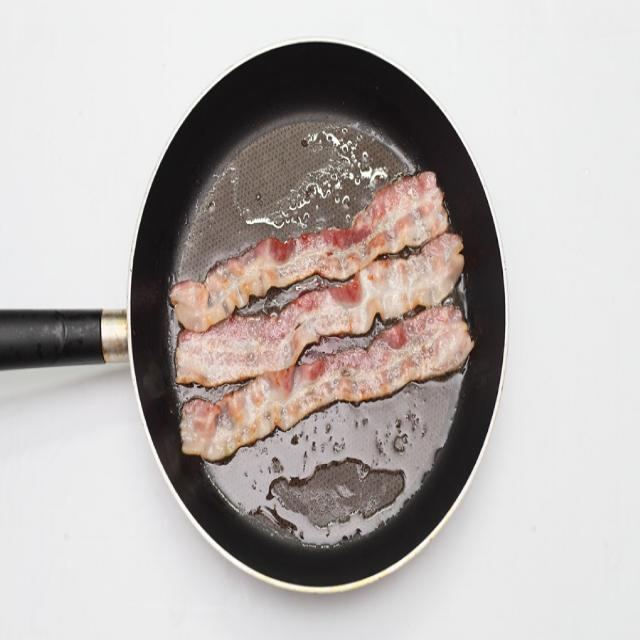Bacon Slice: (169, 171, 474, 462)
